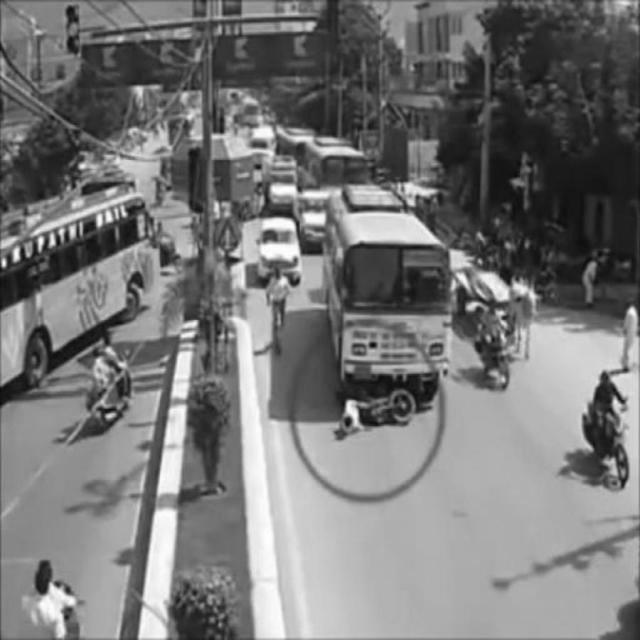accident: (328, 198, 450, 428)
person: (266, 271, 290, 355)
vehicle: (4, 173, 160, 384), (581, 373, 635, 484), (86, 331, 138, 429), (474, 300, 514, 388), (260, 219, 301, 283)
